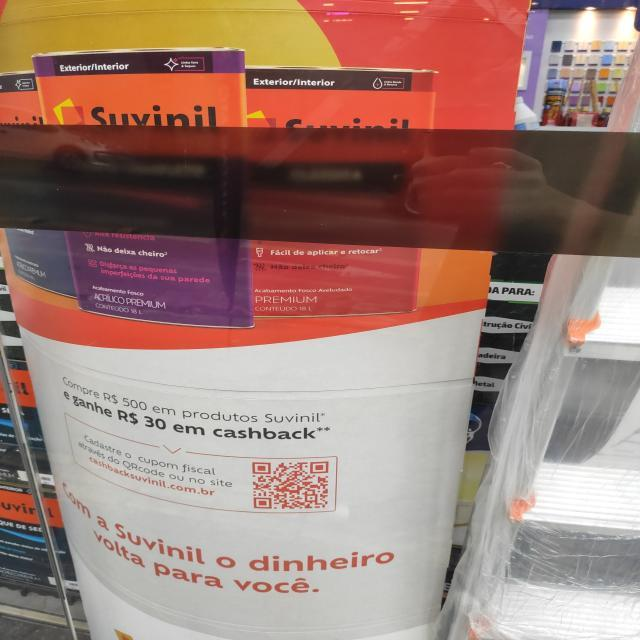qr-code: (252, 461, 329, 509)
